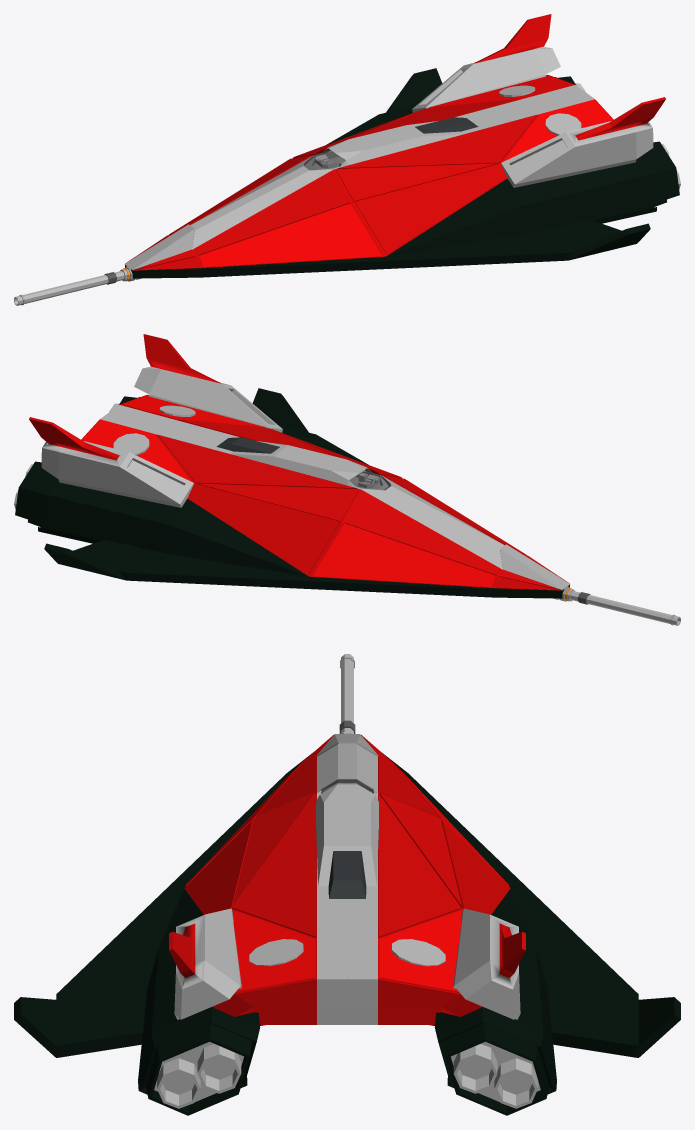
File: lowfdl.fbx
3 renders of one model, top to bottom at view 1: azimuth 30°, elevation 25°; view 2: azimuth 150°, elevation 25°; view 3: azimuth 270°, elevation 25°, orthographic. The views are drawn at different scales.
Visible parts, largest first — view 1: middlehull, window; view 2: middlehull, window; view 3: middlehull.
Part boxes in pixels (x1,y1,x2,y2): middlehull: (14,14,680,305); window: (304,148,345,169); middlehull: (14,334,680,625); window: (349,468,390,489); middlehull: (14,654,680,1115).
Size of the model in its own units: 22.79 by 4.14 by 14.12.
